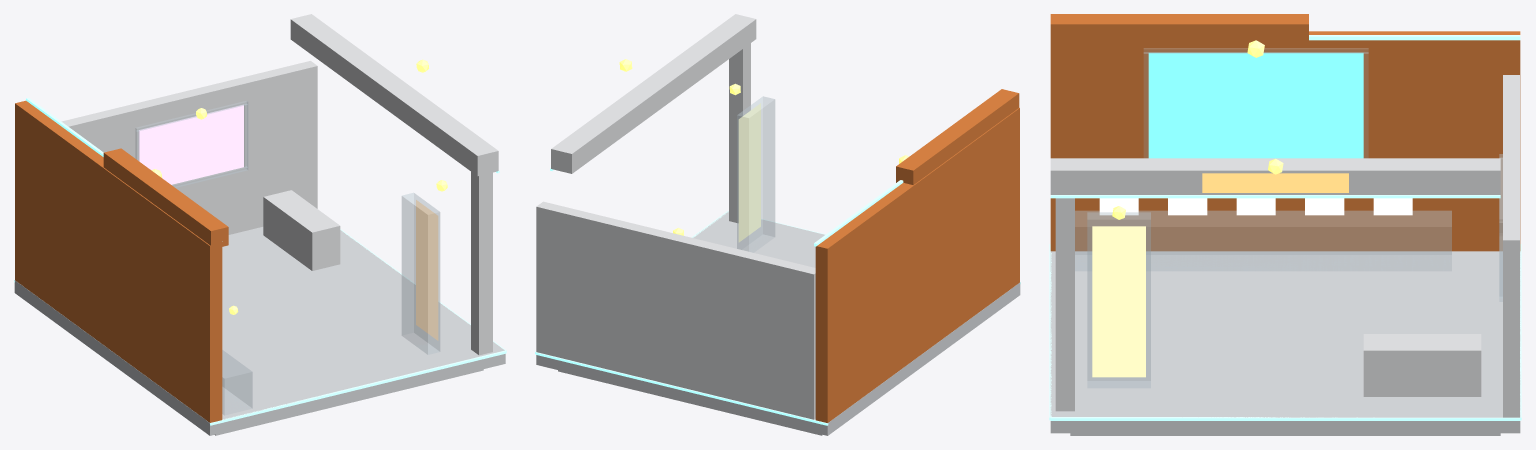
The model's file is Booth_Pro_T01.glb.
3 views of the same model, side by side, from view 1: azimuth 30°, elevation 25°; view 2: azimuth 150°, elevation 25°; view 3: azimuth 270°, elevation 25° (orthographic). The views are drawn at different scales.
Visible parts, largest first — view 1: Booth_Pro_T01__Color__Primary, Booth_Pro_T01__Anti_gravity, Booth_Pro_T01__Color__Secondary, Booth_Pro_T01, Booth_Pro_T01__Image_02__Display, Booth_Pro_T01__Image_01__Display, Booth_Pro_T01__Glowing_line, Booth_Pro_T01__Frame_003__Product; view 2: Booth_Pro_T01__Color__Secondary, Booth_Pro_T01__Color__Primary, Booth_Pro_T01__Anti_gravity, Booth_Pro_T01, Booth_Pro_T01__Image_01__Display, Booth_Pro_T01__Glowing_line; view 3: Booth_Pro_T01__Anti_gravity, Booth_Pro_T01__Color__Primary, Booth_Pro_T01__Color__Secondary, Booth_Pro_T01__Video_horizon__Display, Booth_Pro_T01__Frame_003__Product, Booth_Pro_T01__Image_01__Display, Booth_Pro_T01__Glowing_line, Booth_Pro_T01, Booth_Pro_T01__Logo_01__Display, Booth_Pro_T01__Frame_004__Video, Booth_Pro_T01__Product_02__Display, Booth_Pro_T01__Product_03__Display (+3 smaller).
Boxes of the visible parts, x1=… form: Booth_Pro_T01__Color__Primary: x1=15, y1=100, x2=228, y2=422; Booth_Pro_T01__Anti_gravity: x1=14, y1=227, x2=505, y2=435; Booth_Pro_T01__Color__Secondary: x1=61, y1=14, x2=498, y2=355; Booth_Pro_T01: x1=135, y1=59, x2=447, y2=354; Booth_Pro_T01__Image_02__Display: x1=138, y1=104, x2=243, y2=184; Booth_Pro_T01__Image_01__Display: x1=416, y1=200, x2=438, y2=340; Booth_Pro_T01__Glowing_line: x1=14, y1=97, x2=506, y2=425; Booth_Pro_T01__Frame_003__Product: x1=222, y1=350, x2=252, y2=415; Booth_Pro_T01__Color__Secondary: x1=536, y1=14, x2=815, y2=419; Booth_Pro_T01__Color__Primary: x1=815, y1=89, x2=1019, y2=422; Booth_Pro_T01__Anti_gravity: x1=536, y1=211, x2=1020, y2=435; Booth_Pro_T01: x1=619, y1=59, x2=774, y2=252; Booth_Pro_T01__Image_01__Display: x1=738, y1=103, x2=760, y2=242; Booth_Pro_T01__Glowing_line: x1=535, y1=168, x2=1020, y2=425; Booth_Pro_T01__Anti_gravity: x1=1050, y1=251, x2=1520, y2=435; Booth_Pro_T01__Color__Primary: x1=1050, y1=14, x2=1520, y2=251; Booth_Pro_T01__Color__Secondary: x1=1050, y1=75, x2=1519, y2=417; Booth_Pro_T01__Video_horizon__Display: x1=1148, y1=52, x2=1363, y2=158; Booth_Pro_T01__Frame_003__Product: x1=1075, y1=211, x2=1451, y2=270; Booth_Pro_T01__Image_01__Display: x1=1092, y1=226, x2=1145, y2=377; Booth_Pro_T01__Glowing_line: x1=1049, y1=35, x2=1521, y2=420; Booth_Pro_T01: x1=1087, y1=154, x2=1502, y2=387; Booth_Pro_T01__Logo_01__Display: x1=1202, y1=173, x2=1348, y2=192; Booth_Pro_T01__Frame_004__Video: x1=1143, y1=48, x2=1368, y2=157; Booth_Pro_T01__Product_02__Display: x1=1168, y1=198, x2=1207, y2=215; Booth_Pro_T01__Product_03__Display: x1=1236, y1=198, x2=1275, y2=215.
Bounding box in the file's own units: 8.85 × 6.58 × 9.66.
